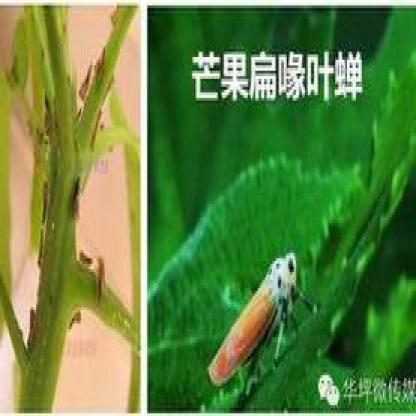grasshopper: (206, 249, 326, 384), (68, 171, 82, 216), (96, 254, 107, 309), (38, 174, 51, 219), (37, 228, 48, 274), (67, 306, 83, 331), (26, 306, 36, 346), (78, 245, 93, 270), (95, 45, 106, 76)
